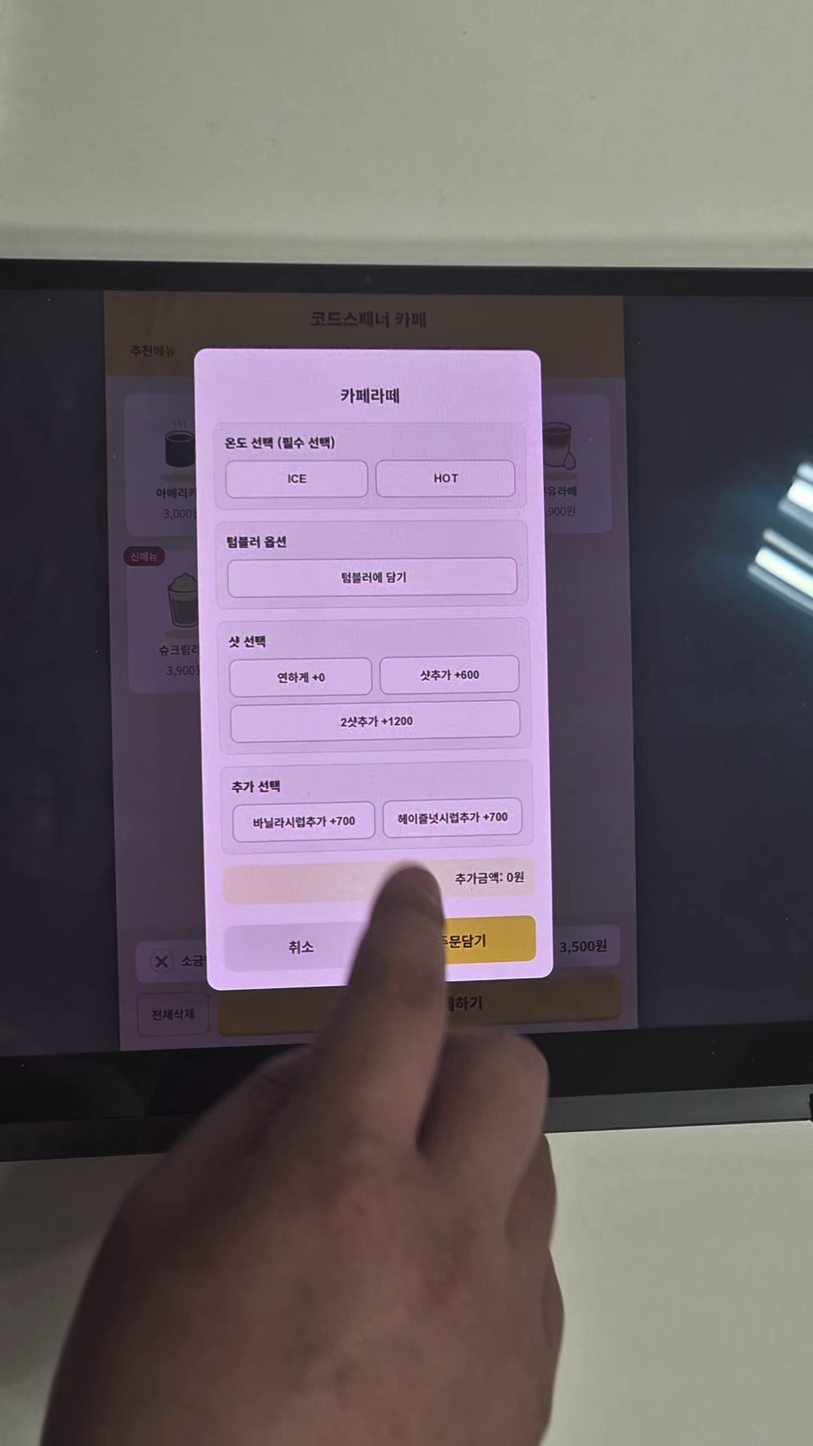action_button: (222, 922, 376, 971), (397, 916, 536, 964)
menu_name: (338, 385, 401, 402)
option_button: (231, 699, 520, 742), (229, 557, 518, 596), (383, 797, 522, 838), (234, 802, 375, 842), (231, 657, 371, 696), (380, 656, 520, 693), (375, 461, 516, 495), (227, 461, 367, 495)
popup_modal: (199, 349, 554, 987)
